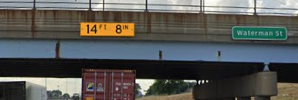1: (84, 23, 90, 35)
4: (89, 23, 98, 35)
8: (113, 23, 122, 36)
overheadsign: (79, 21, 135, 39)
